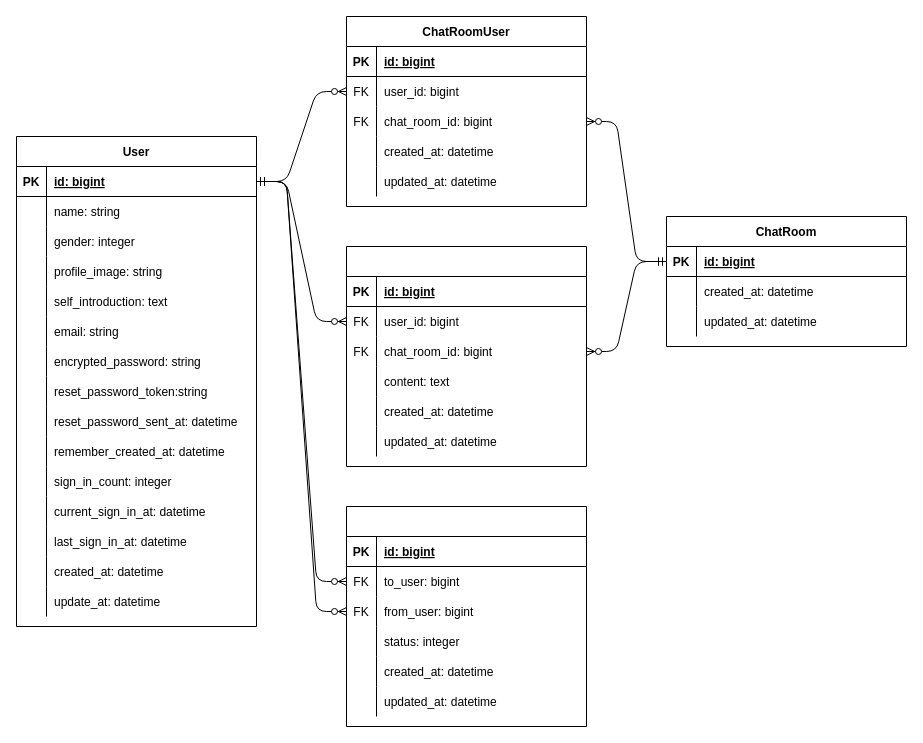
This 923x743 diagram has some shape labels left out. Each missing label, with the box of its shape:
Message: (346, 246, 586, 466)
Reaction: (346, 506, 586, 726)
